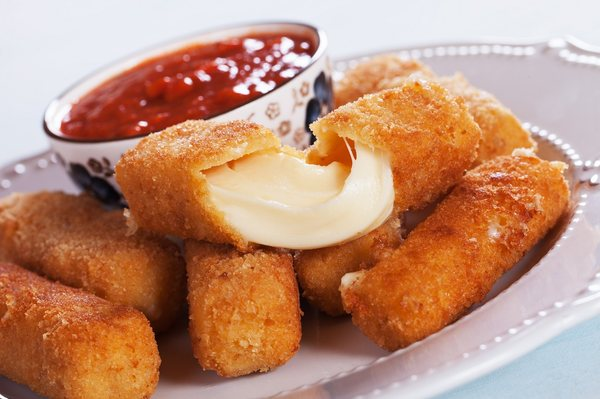salad: (0, 189, 187, 333), (0, 261, 163, 396), (183, 239, 303, 379)
